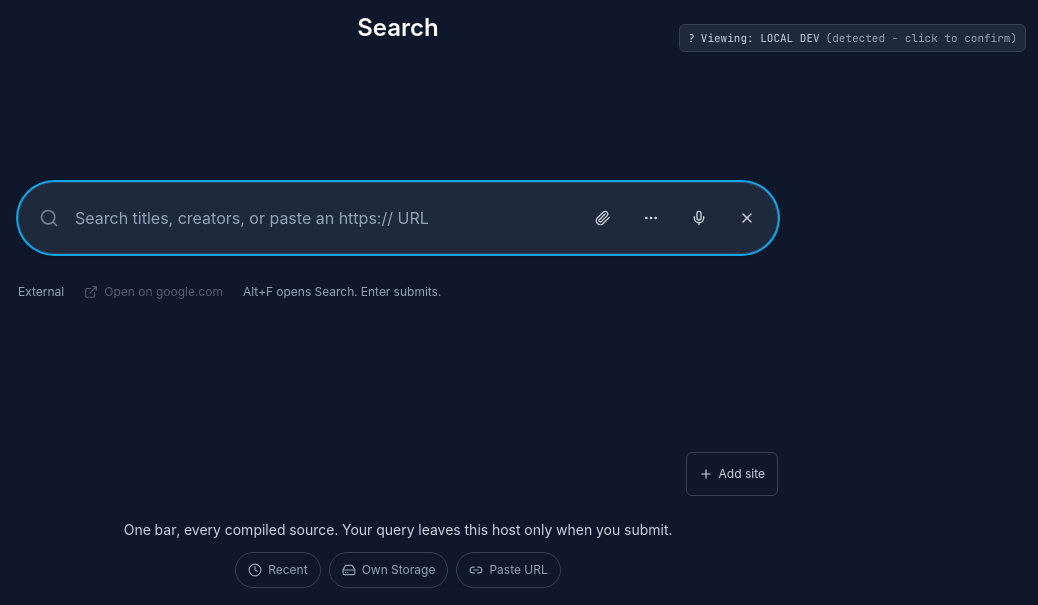
Test: F56-c v3 all-in-one landing › URL-import mode auto-lights the clip icon on an HTTPS paste
Type "https://example.org/dataset.zip" into the search field with test id "search-query" at (326, 218), box 75,206 -> 577,230
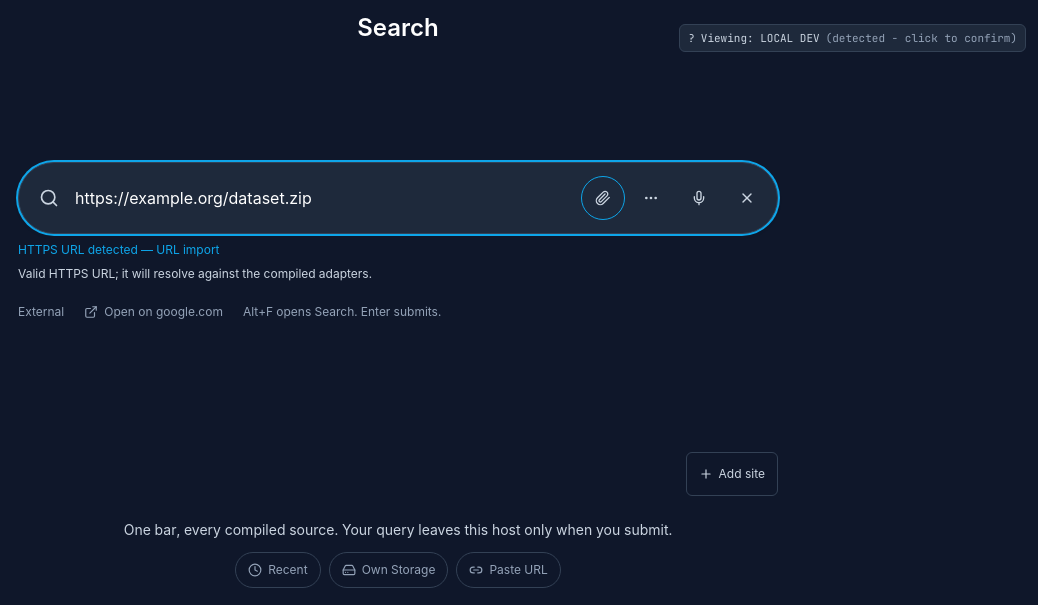
Expected: the text with id "f56" shows "HTTPS URL detected", 18,242 -> 138,257
